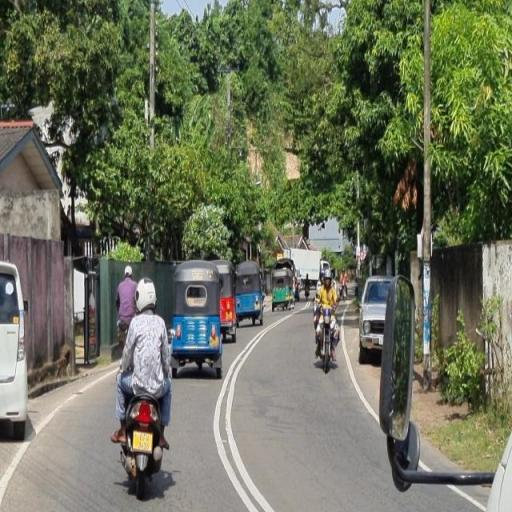double_white_line: (212, 311, 274, 512)
